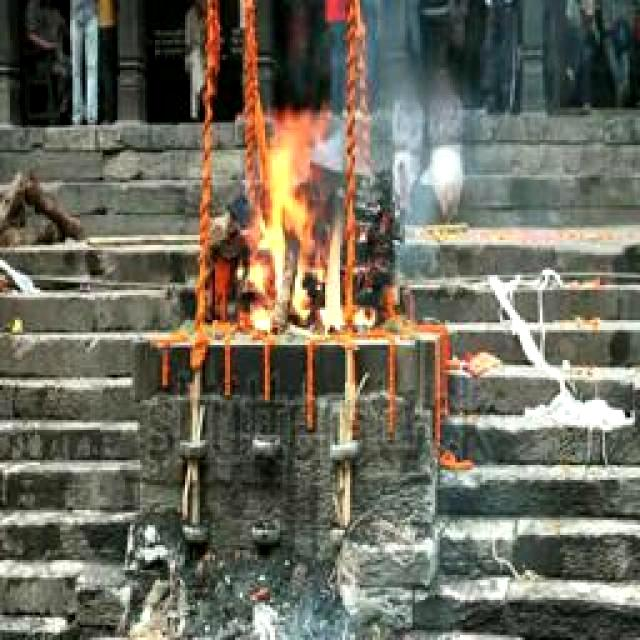fire: (248, 108, 352, 336)
